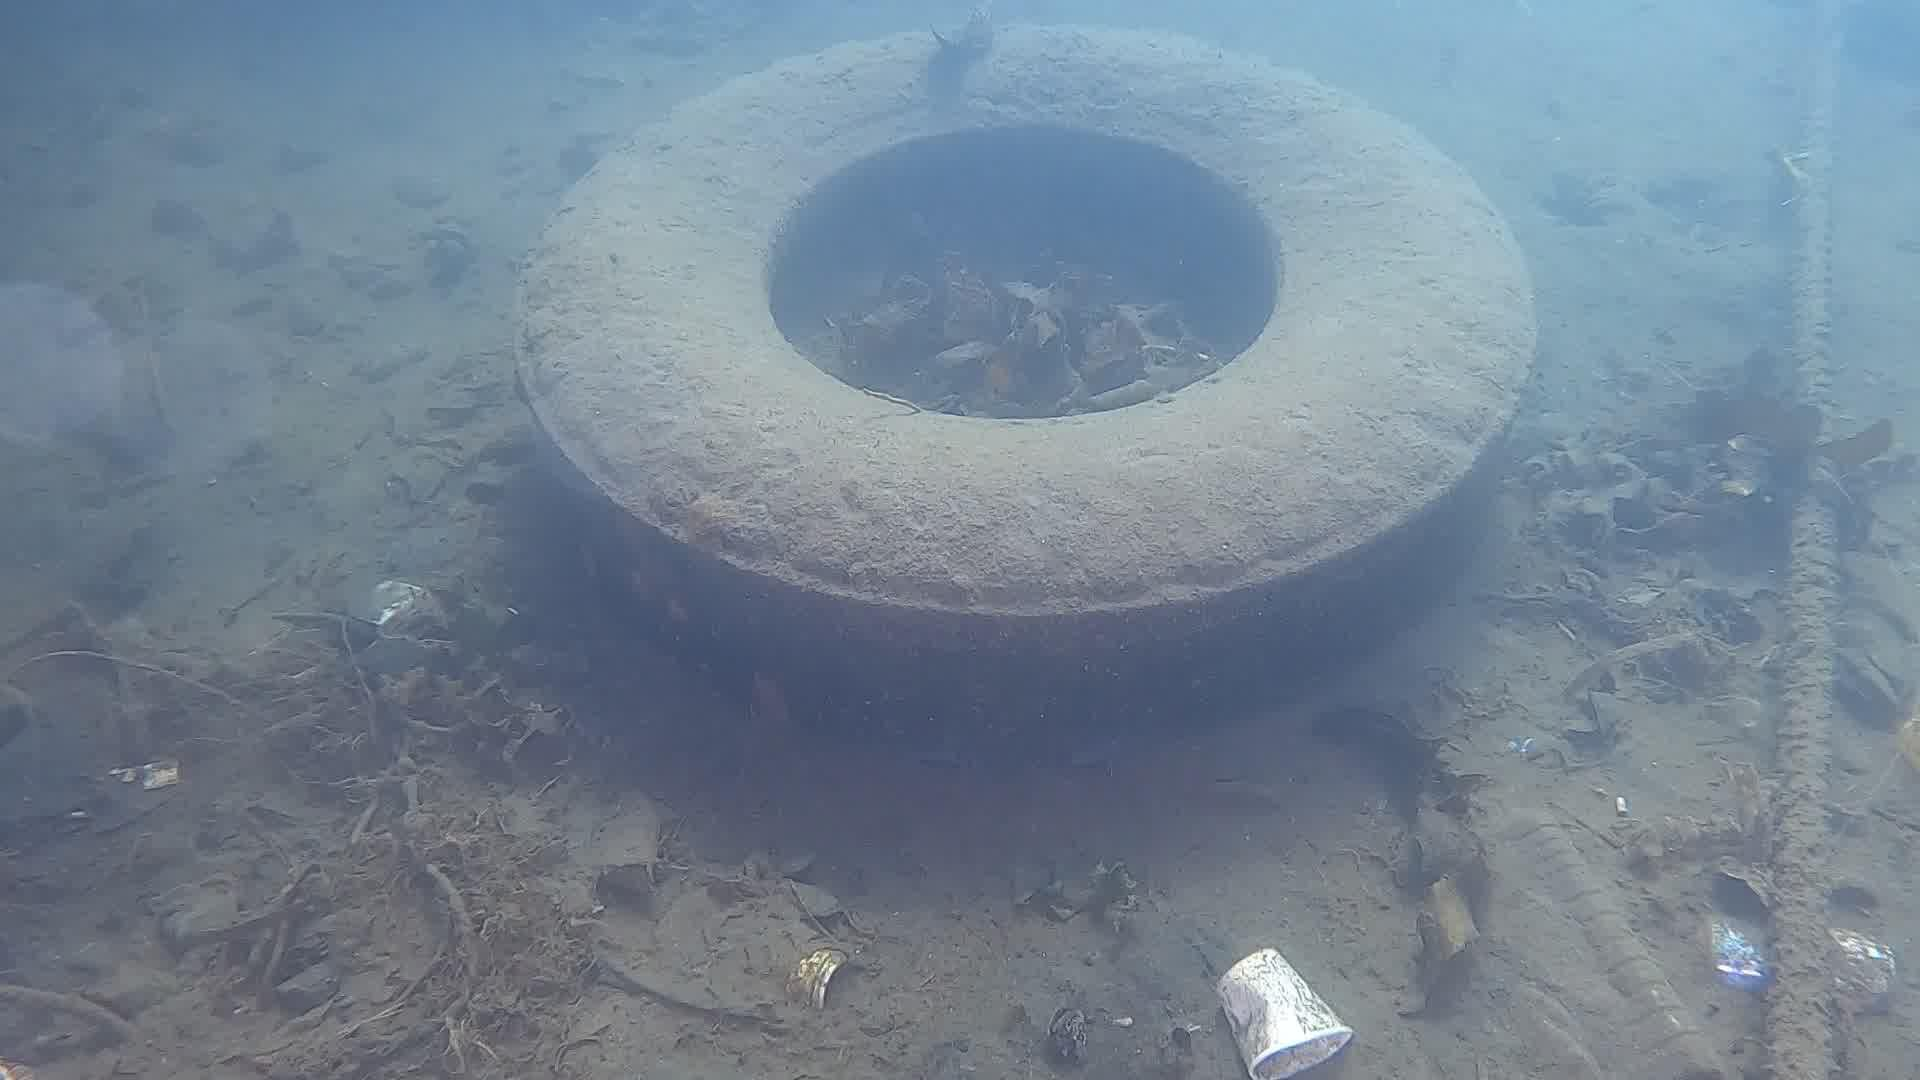rope: (1767, 84, 1842, 1080)
tire: (512, 21, 1534, 744)
